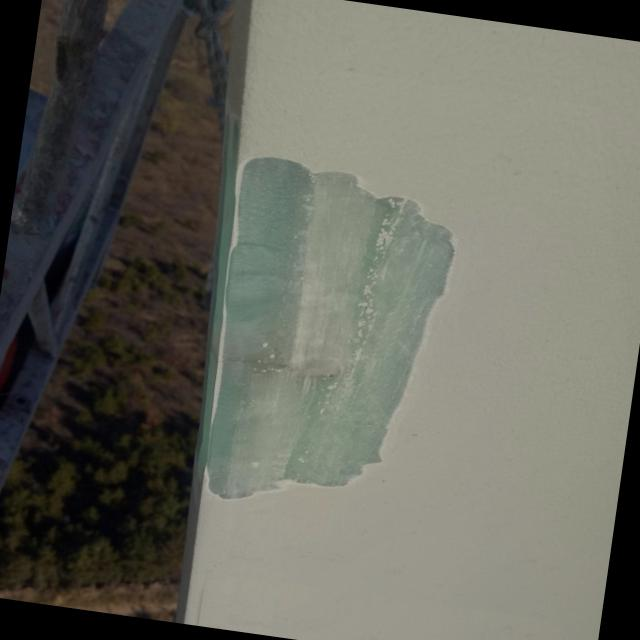surface_peeling: (197, 152, 466, 530)
